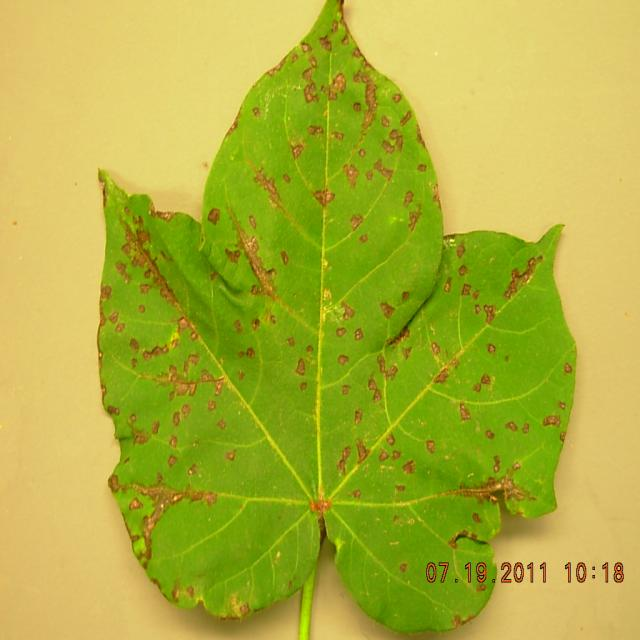Bacterial Blight: (306, 81, 422, 524), (128, 230, 292, 496)
